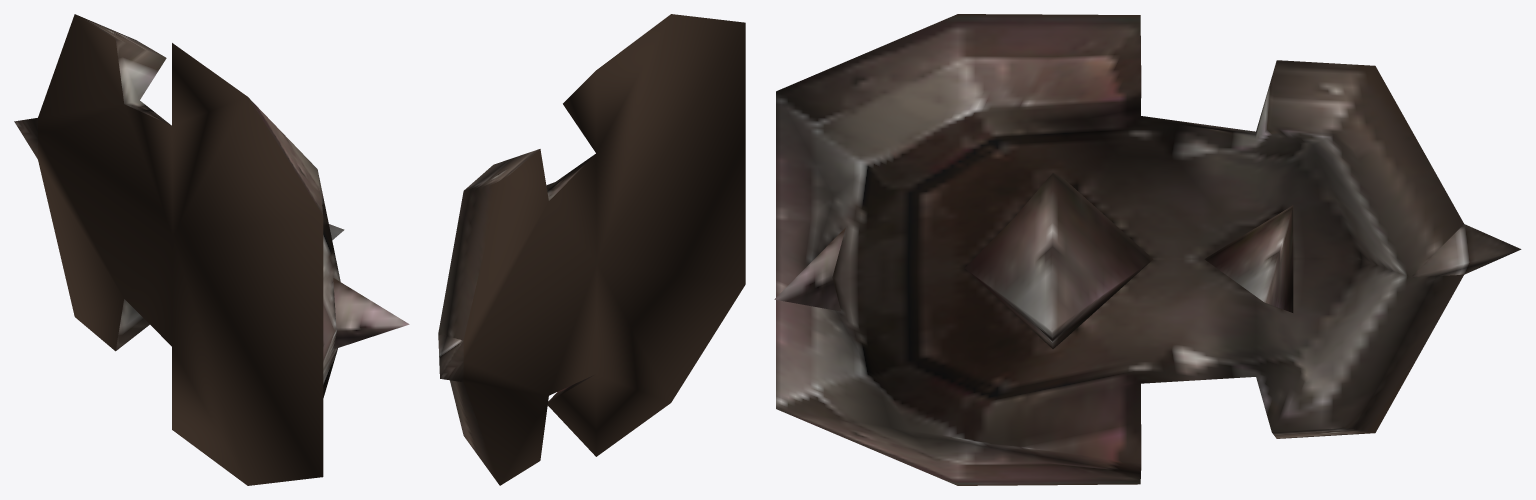
The model's file is weapon_dun.FBX.
The picture shows the model from 3 angles, left to right: view 1: azimuth 30°, elevation 25°; view 2: azimuth 150°, elevation 25°; view 3: azimuth 270°, elevation 25°; orthographic projection. The views are drawn at different scales.
Parts seen in each view (by area): view 1: wanglingjingru_weapon_l; view 2: wanglingjingru_weapon_l; view 3: wanglingjingru_weapon_l.
Boxes of the visible parts, x1,y1,x2,y2 form: wanglingjingru_weapon_l: (14,14,409,485); wanglingjingru_weapon_l: (438,14,745,485); wanglingjingru_weapon_l: (774,14,1521,485).
Size of the model in its own units: 0.2933 by 1.14 by 0.7967.
